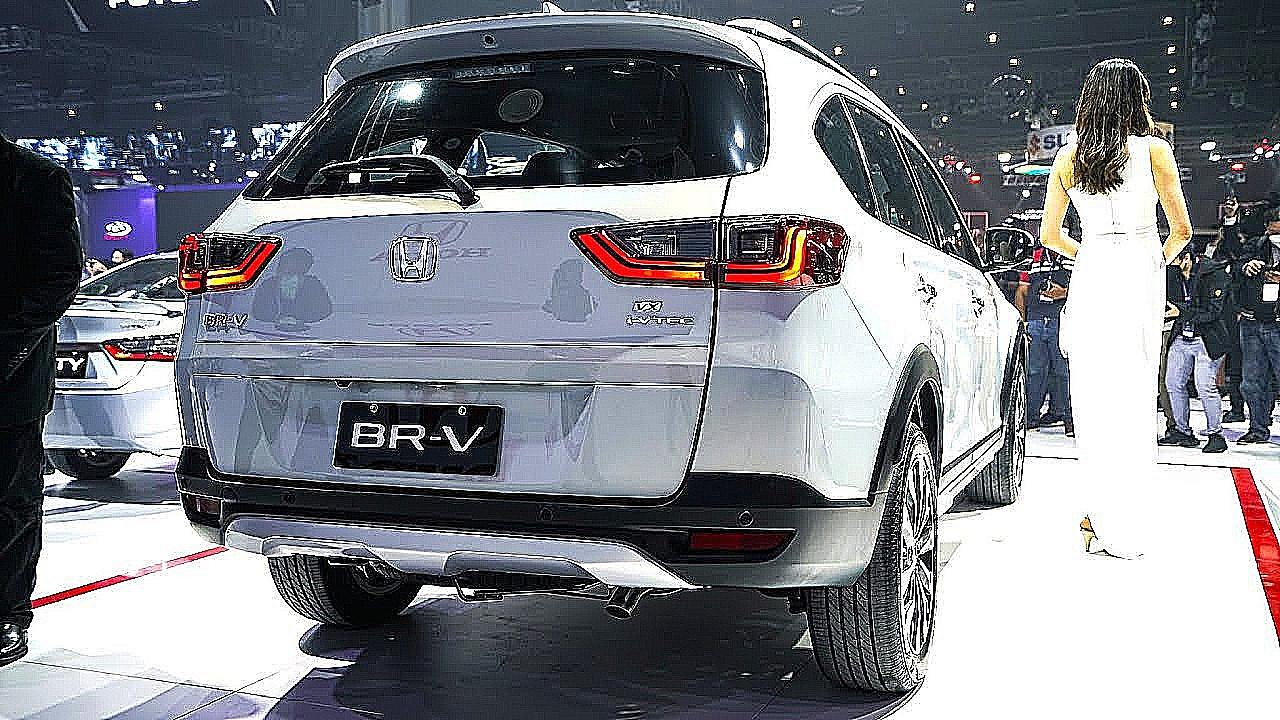Car boot: (188, 37, 744, 506)
Driver-s door - -F-R-: (892, 106, 1006, 521)
Fender - -R-R-: (736, 35, 935, 399)
Passenger-s door - -R-R-: (837, 58, 976, 514)
Rear bumper: (172, 435, 879, 600)
Rear light - -L-: (174, 227, 282, 302)
Rear light - -R-: (572, 210, 852, 294)
Side bumper - -R-: (936, 419, 1010, 547)
Side mirror - -R-: (975, 216, 1035, 281)
